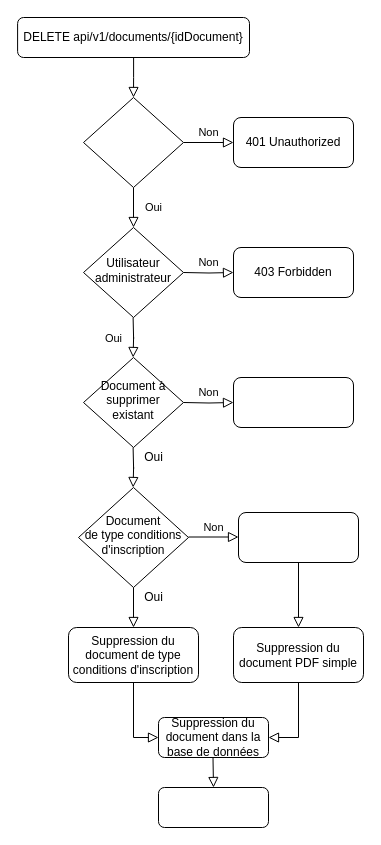
Image size: 381x845. Some labels were removed from this diagram. The shapes that lost their labels are listed below. From the top down, each one's centre as x and y in pixels, then its label:
At [133,142]: "Header Authorization présent".
At [293,402]: "404 Not Found".
At [298,537]: "Document PDF simple".
At [213,807]: "200 OK".
